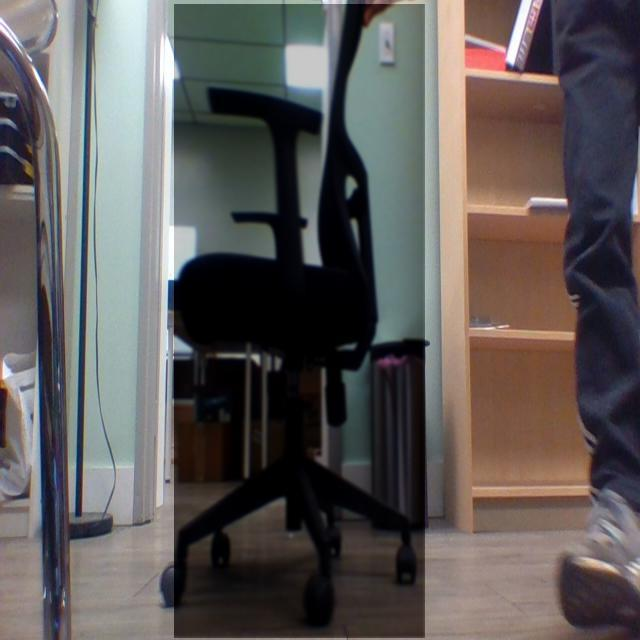chair: (174, 5, 426, 640)
